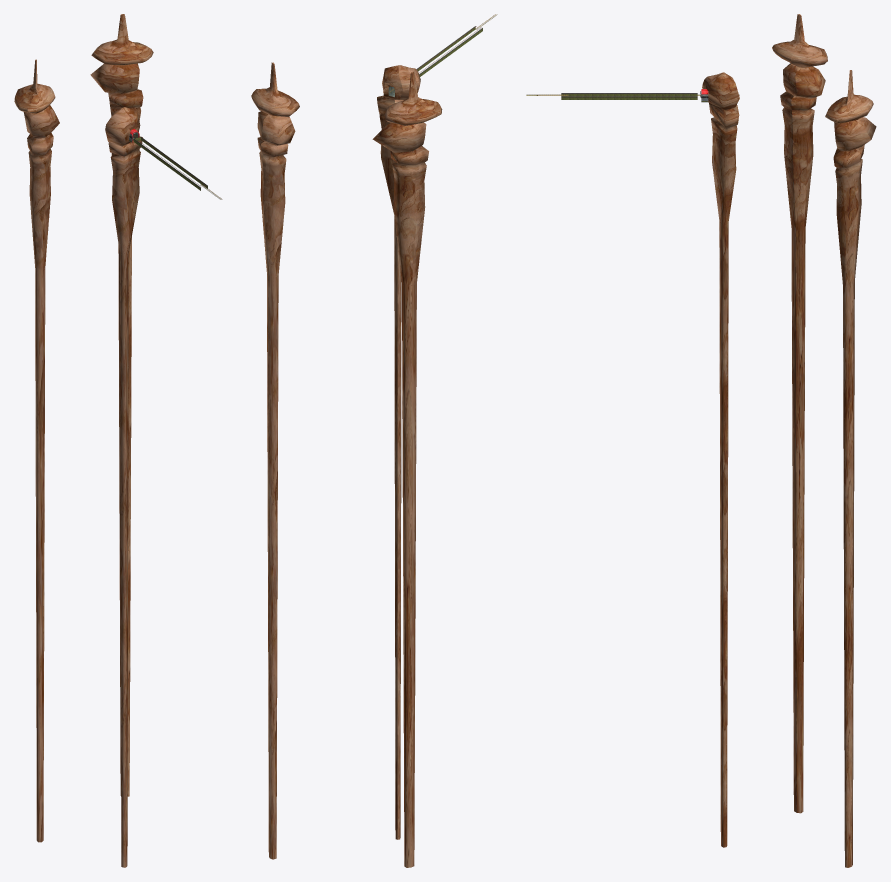
The model's file is Bullet Station 24.fbx.
3 renders of one model, left to right at view 1: azimuth 30°, elevation 25°; view 2: azimuth 150°, elevation 25°; view 3: azimuth 270°, elevation 25°, orthographic.
Visible parts, largest first — view 1: STG08_ON_06; view 2: STG08_ON_06; view 3: STG08_ON_06.
Part boxes in pixels (left/top/right/bottom): STG08_ON_06: left=14, top=14, right=222, bottom=867; STG08_ON_06: left=251, top=14, right=497, bottom=867; STG08_ON_06: left=526, top=14, right=876, bottom=867.
Bounding box in the file's own units: 533398 × 2546248 × 1001808.
